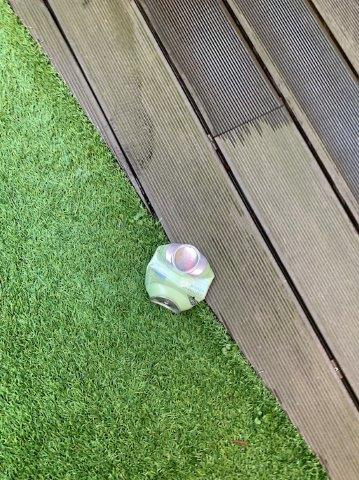kaleng: (145, 243, 214, 312)
